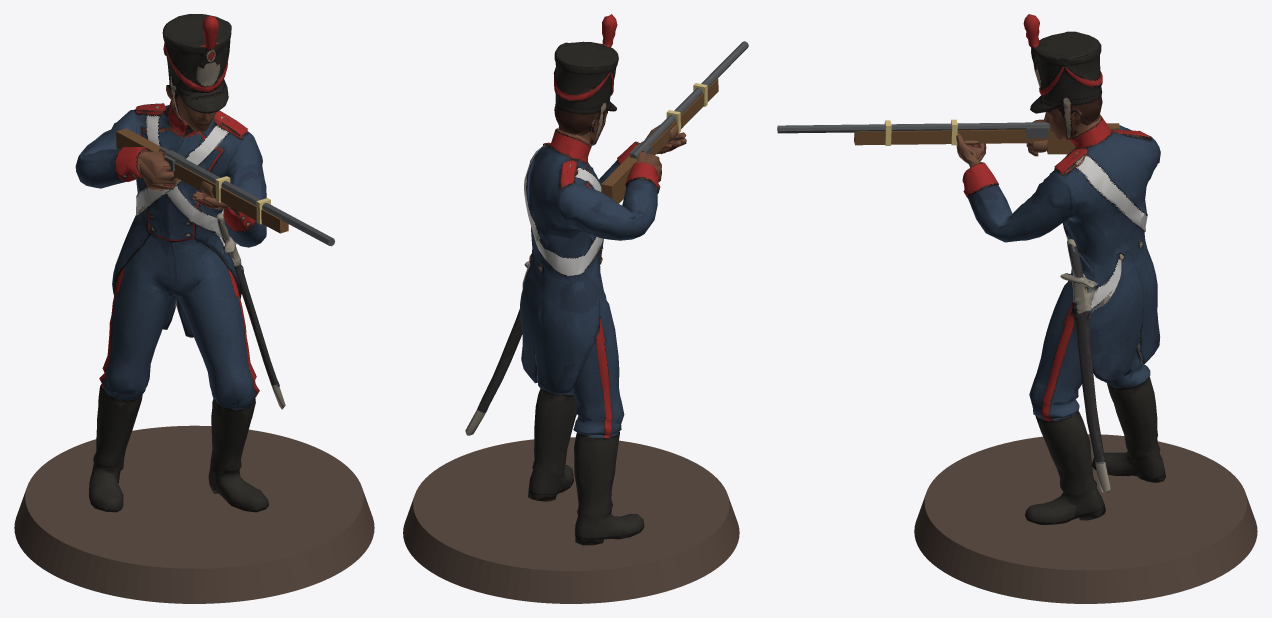
Rendered from cabral_figura.glb.
3 views of the same model, side by side, from view 1: azimuth 30°, elevation 25°; view 2: azimuth 150°, elevation 25°; view 3: azimuth 270°, elevation 25° (orthographic). The views are drawn at different scales.
Visible parts, largest first — view 1: cabral, base; view 2: cabral, base; view 3: cabral, base.
Boxes of the visible parts, box(x1,y1,x2,y2) form: cabral: box(75, 14, 334, 512); base: box(14, 425, 374, 603); cabral: box(465, 14, 748, 545); base: box(403, 437, 739, 603); cabral: box(777, 14, 1165, 524); base: box(914, 434, 1257, 603).
Bounding box in the file's own units: 64 × 105 × 89.52.
6 materials, 1 textured.
